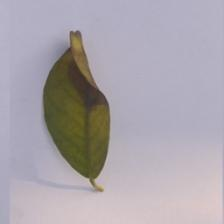black spot: (56, 50, 100, 118)
